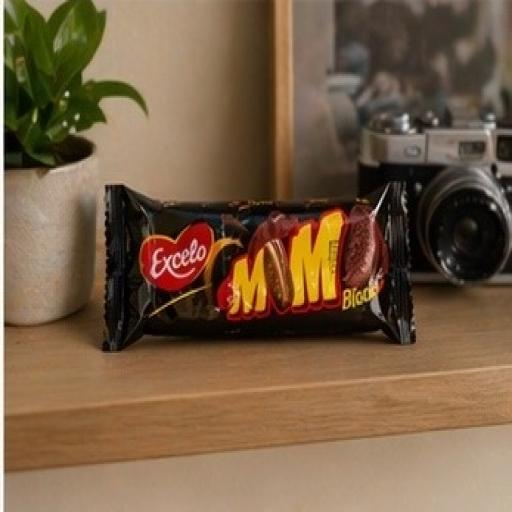MOMO: (68, 128, 458, 457)
